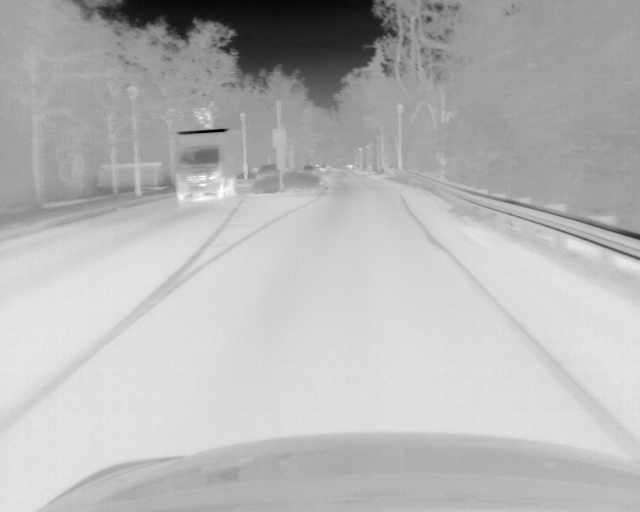car: (173, 128, 245, 201)
